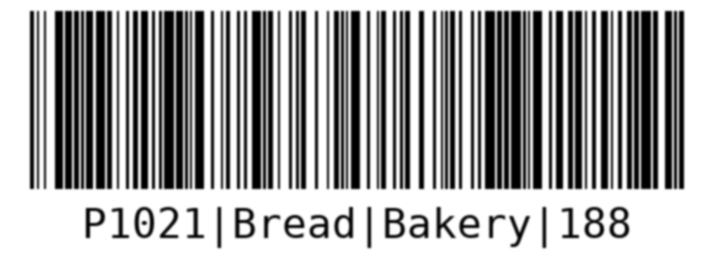milk: (26, 4, 689, 247)
